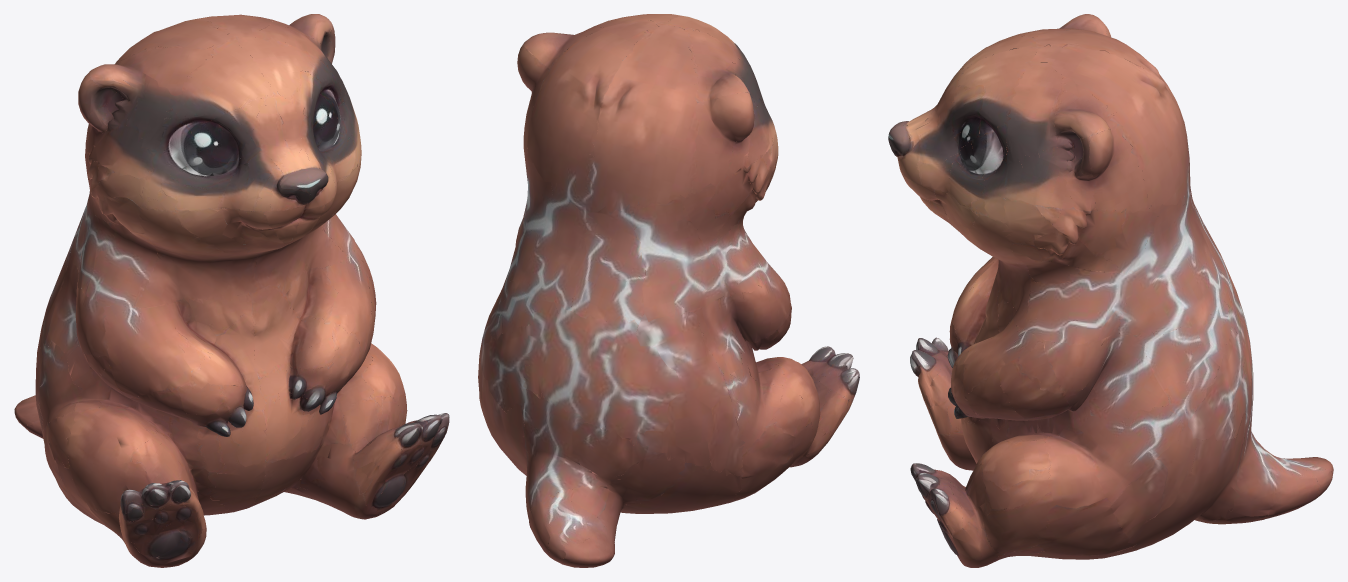
3 renders of one model, left to right at view 1: azimuth 30°, elevation 25°; view 2: azimuth 150°, elevation 25°; view 3: azimuth 270°, elevation 25°, orthographic. The views are drawn at different scales.
Visible parts, largest first — view 1: Mesh_0; view 2: Mesh_0; view 3: Mesh_0.
Boxes of the visible parts, bbox=[...] form: Mesh_0: bbox=[14, 14, 449, 567]; Mesh_0: bbox=[478, 14, 859, 567]; Mesh_0: bbox=[888, 14, 1333, 567].
Size of the model in its own units: 1.37 by 1.9 by 1.64.
Materials: 1 (1 with a texture image).
